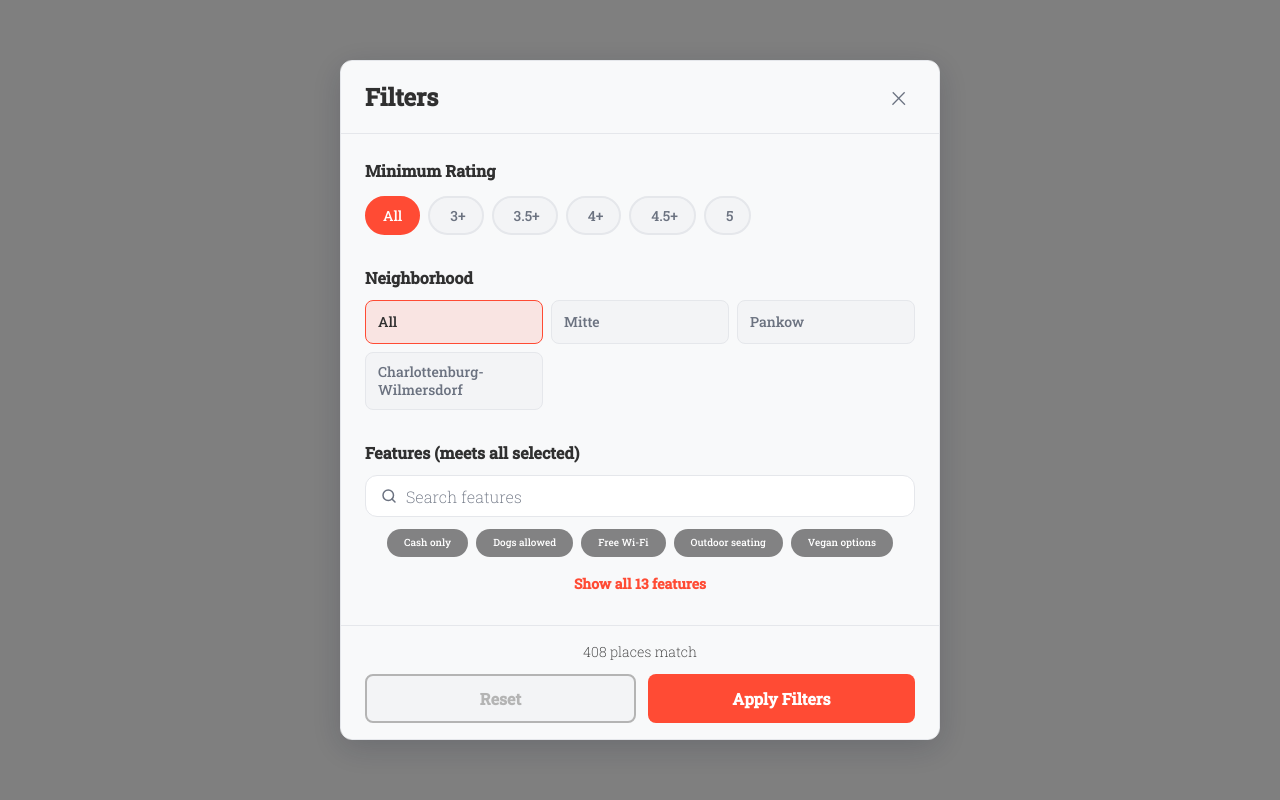
FilterPanel › Features › narrows the Features to matches across all of them, ignoring case, spaces and hyphens
The width and height of the screenshot is (1280, 800).
expect the button "Dogs allowed" is shown: met, box [476,529,573,557]
Type "cash only" into the search field labelled "Search features" at (656,496), box [406,476,906,516]
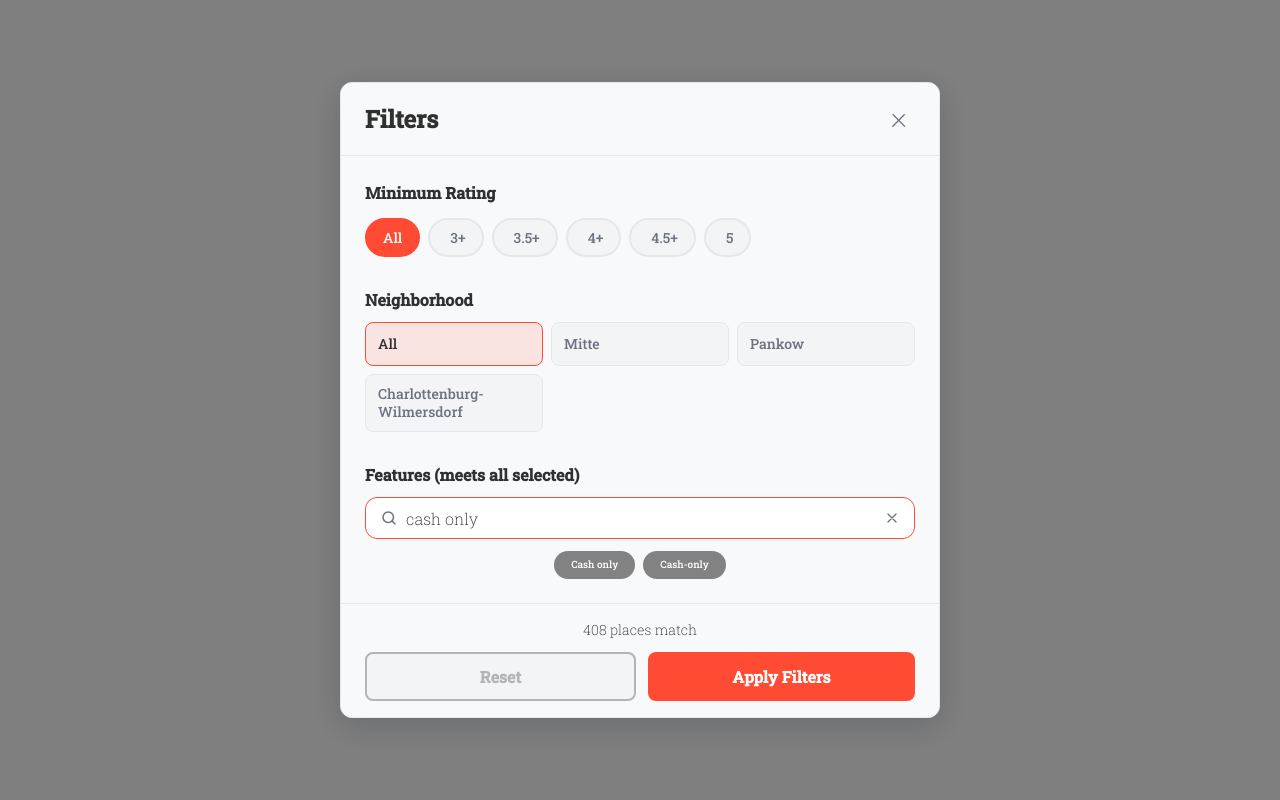
expect the button "Cash-only" is shown: met, box [643,551,726,579]
expect the button "Dogs allowed" is gone: met
expect the button "Show all" is gone: met
Click the button named "Clear features search" at (892,518), box [878,504,906,532]
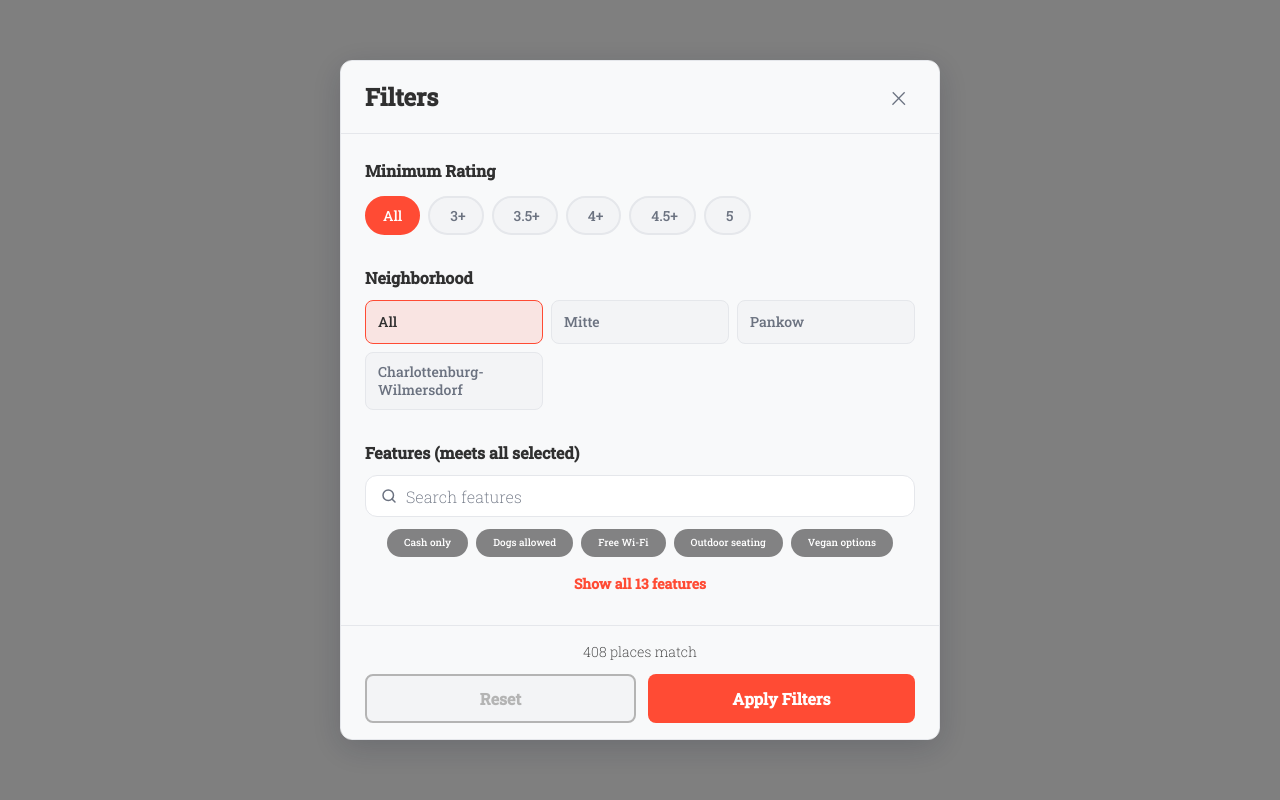
expect the search field labelled "Search features" is empty: met
Type "WIFI" into the search field labelled "Search features" at (656,496), box [406,476,906,516]
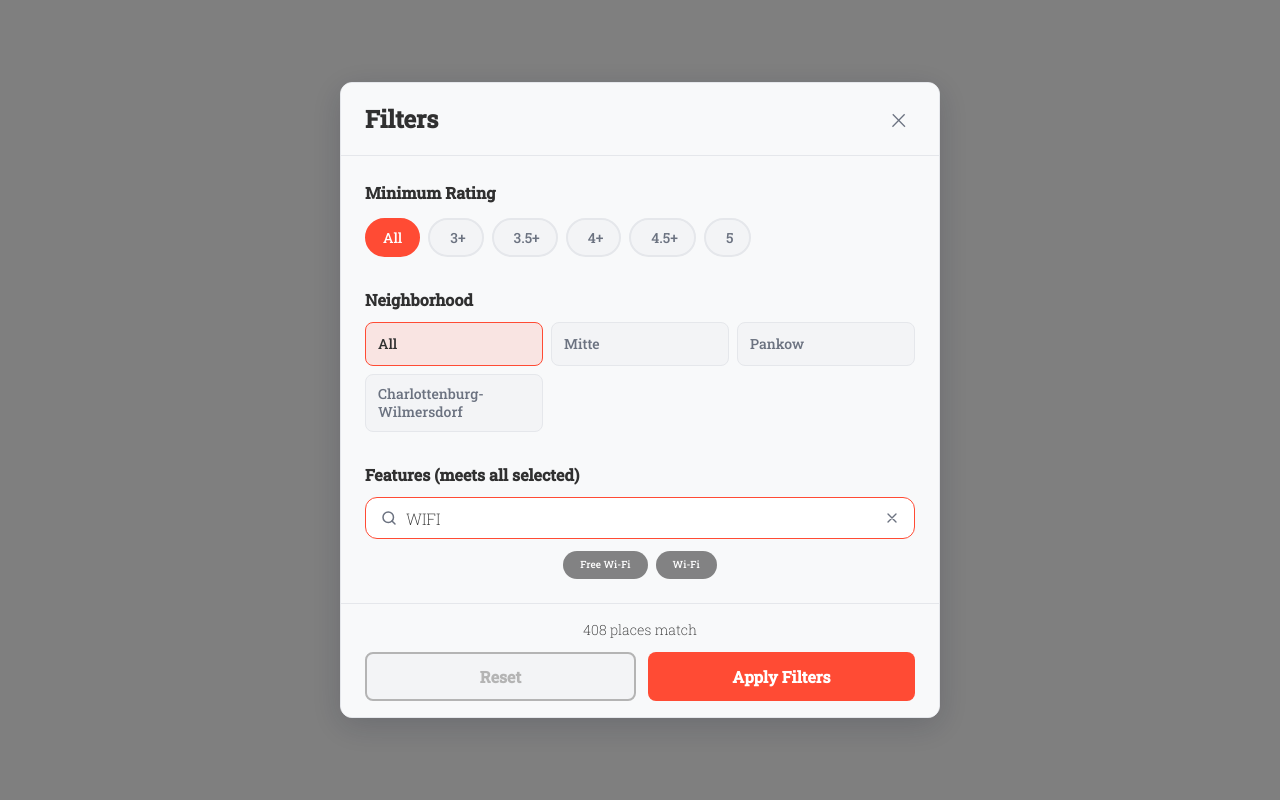
expect the button "Free Wi-Fi" is shown: met, box [563,551,648,579]
expect the button "Wi-Fi" is shown: met, box [656,551,717,579]
expect the button "Cash only" is gone: met
